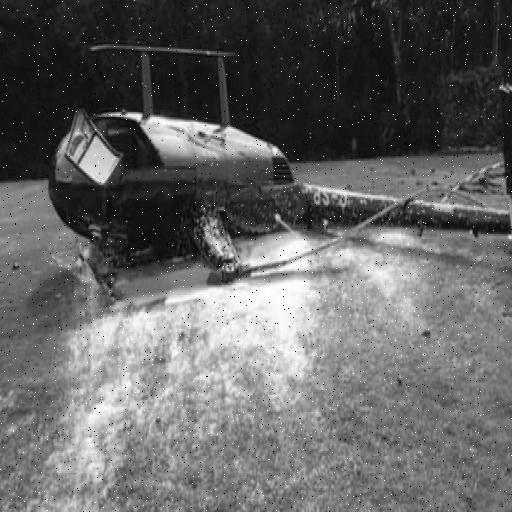helicopter: (11, 23, 512, 332)
